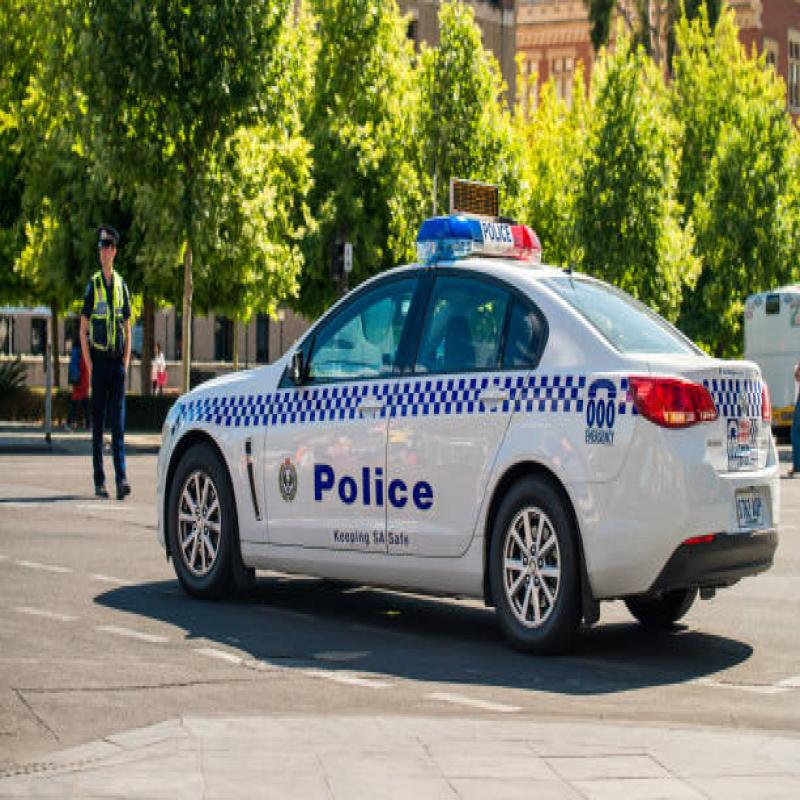AmbulanceSiren: (410, 192, 541, 280)
